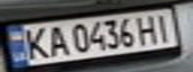0: (69, 20, 90, 54)
3: (103, 17, 124, 51)
4: (87, 18, 106, 52)
6: (118, 15, 139, 47)
A: (42, 23, 69, 57)
H: (133, 12, 163, 45)
I: (151, 11, 181, 43)
K: (18, 25, 51, 61)
